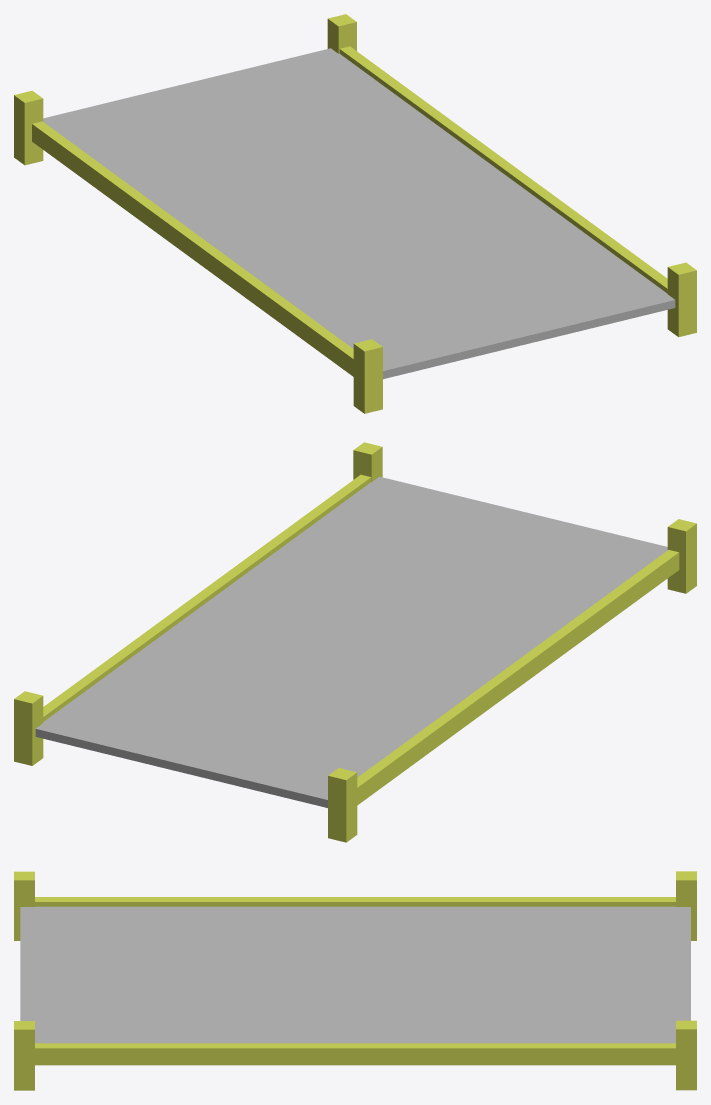
The model's file is SM_Rack_100.fbx.
3 renders of one model, top to bottom at view 1: azimuth 30°, elevation 25°; view 2: azimuth 150°, elevation 25°; view 3: azimuth 270°, elevation 25°, orthographic. The views are drawn at different scales.
Visible parts, largest first — view 1: SM_Rack_100; view 2: SM_Rack_100; view 3: SM_Rack_100.
Boxes of the visible parts, x1,y1,x2,y2 form: SM_Rack_100: [14, 14, 696, 413]; SM_Rack_100: [14, 442, 696, 842]; SM_Rack_100: [14, 871, 696, 1090].
Bounding box in the file's own units: 112 × 20 × 204.
